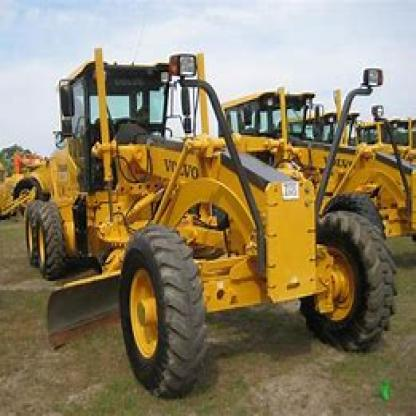bull_dozer/loader/grader: (16, 50, 392, 394)
